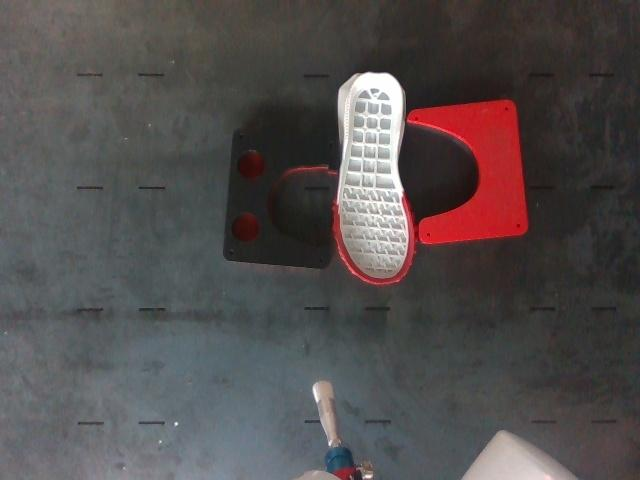shoes: (335, 72, 414, 284)
